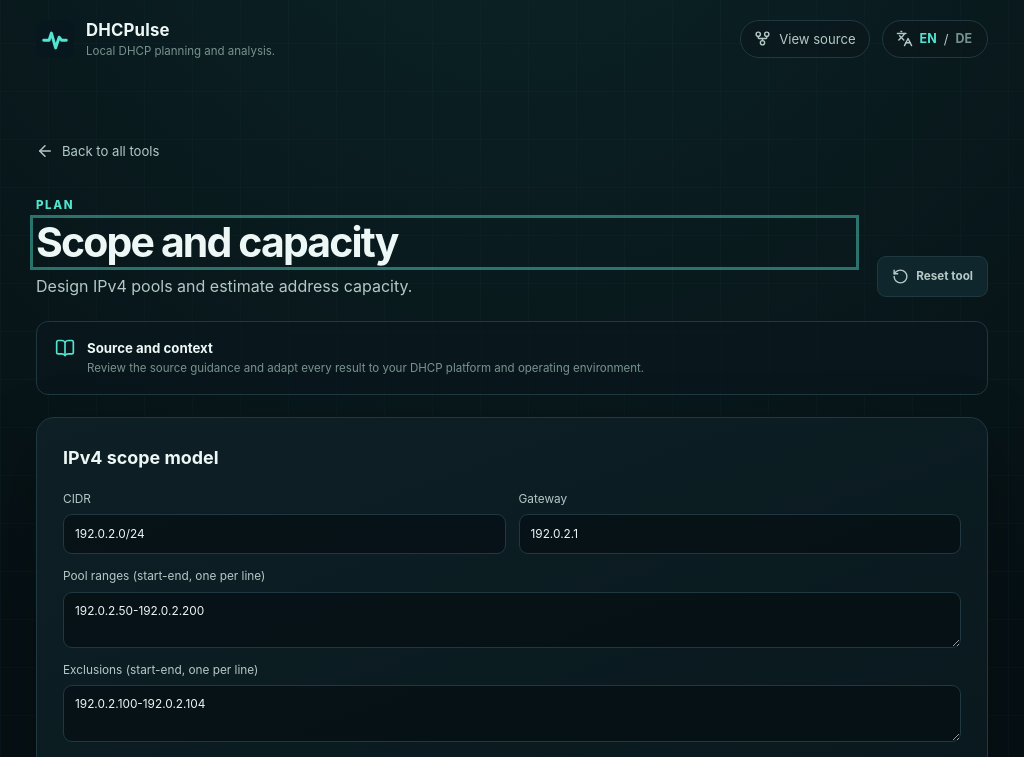
Test: DHCPulse Workbench › states browser-local processing and no uploads in both languages
Click the button with aria-label "Deutsch". click: (964, 39)
box: x1=953 y1=29 x2=974 y2=49
(page scrolled)
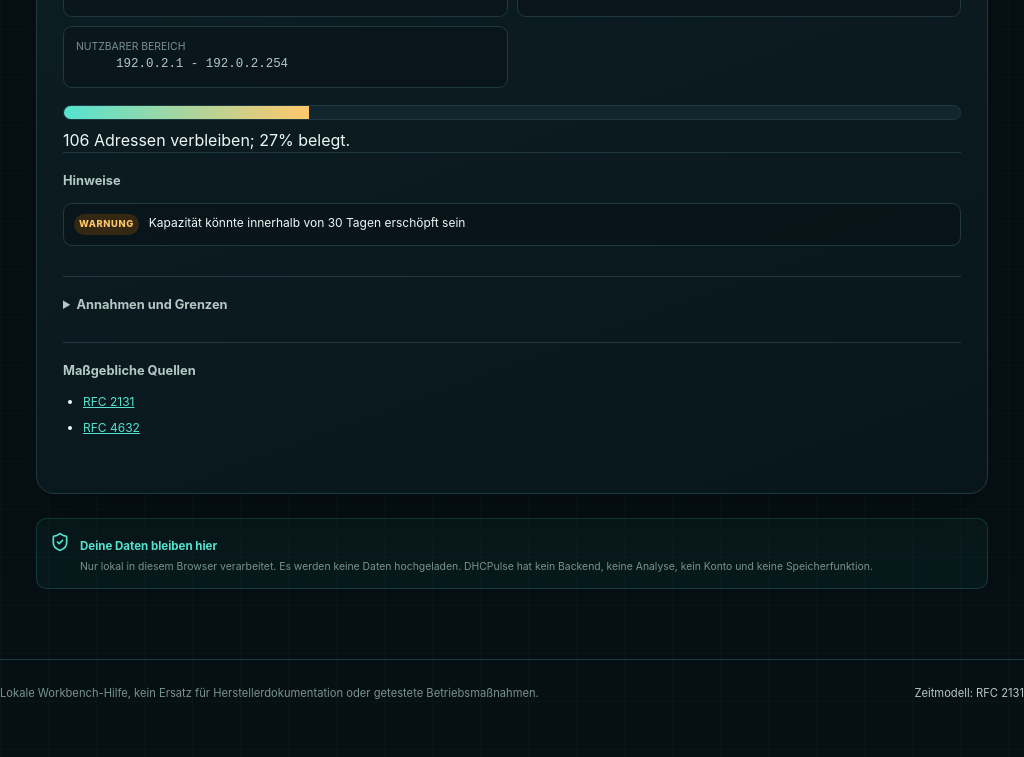
Now the text "Nur lokal in diesem Browser verarbeitet. Es werden keine Daten hochgeladen." is shown, box x1=80 y1=560 x2=873 y2=573
